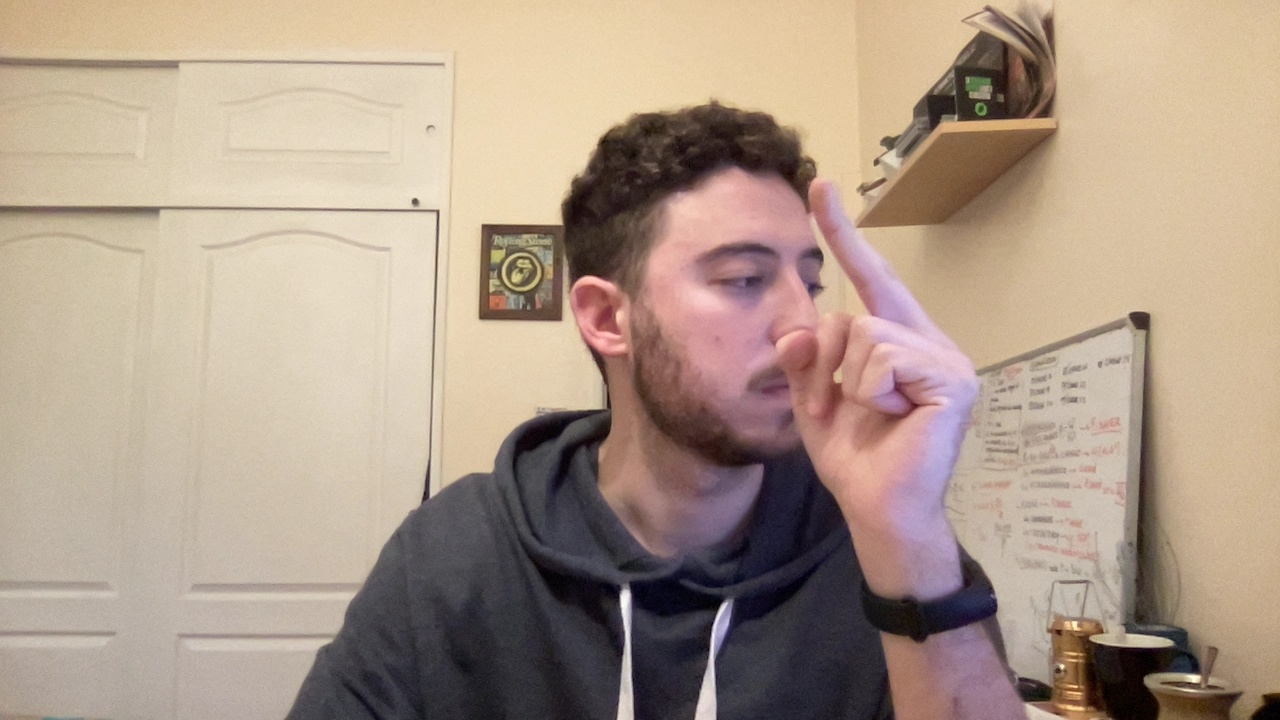mayor: (744, 165, 1003, 516)
